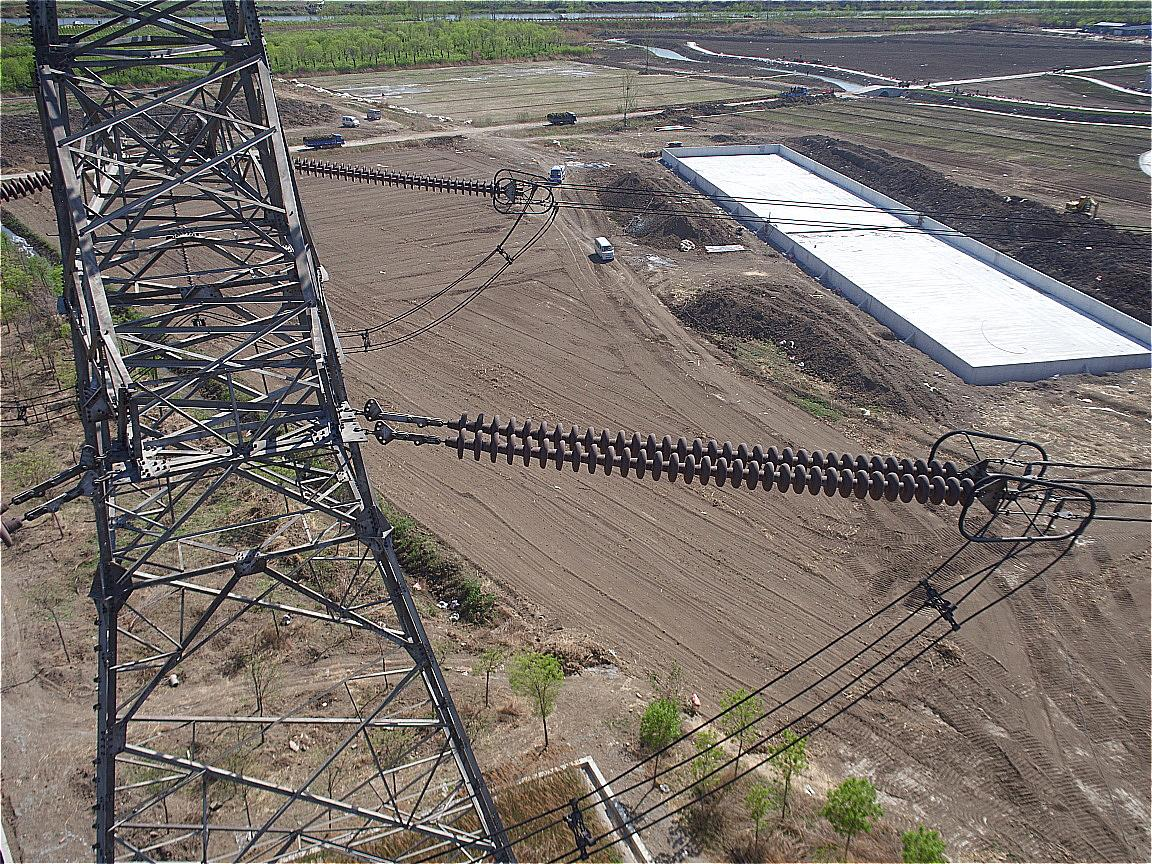insultor1: (454, 412, 976, 506), (297, 155, 502, 198)
